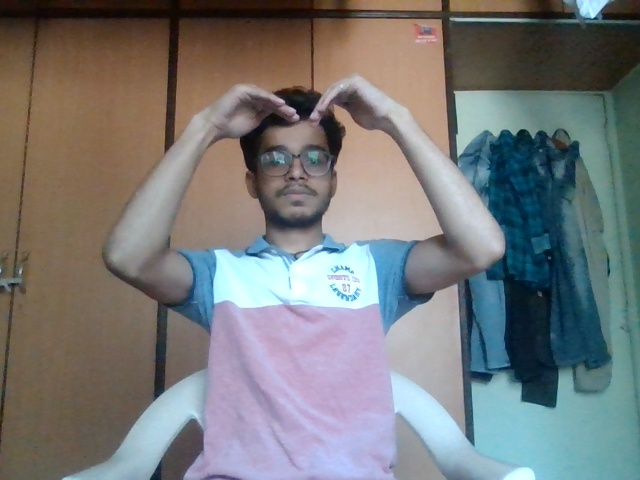we: (174, 70, 424, 186)
